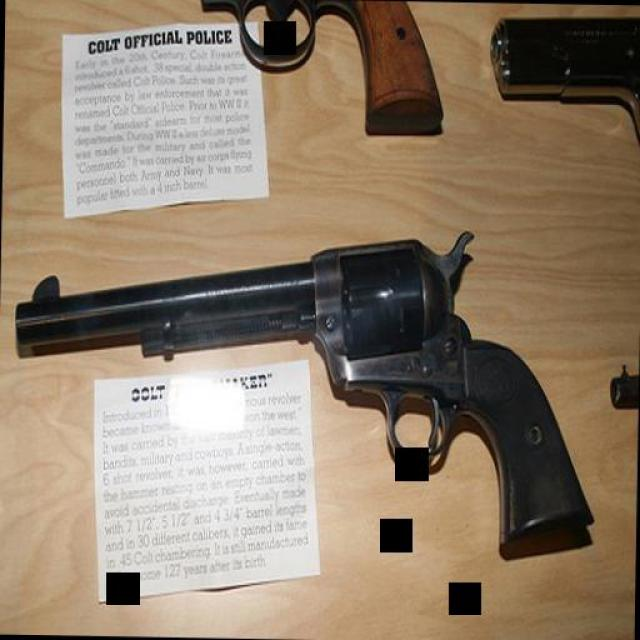gun: (9, 220, 595, 545), (192, 0, 442, 134), (481, 14, 640, 158)
